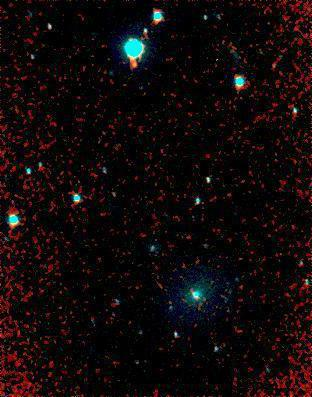star: (120, 45, 150, 75)
